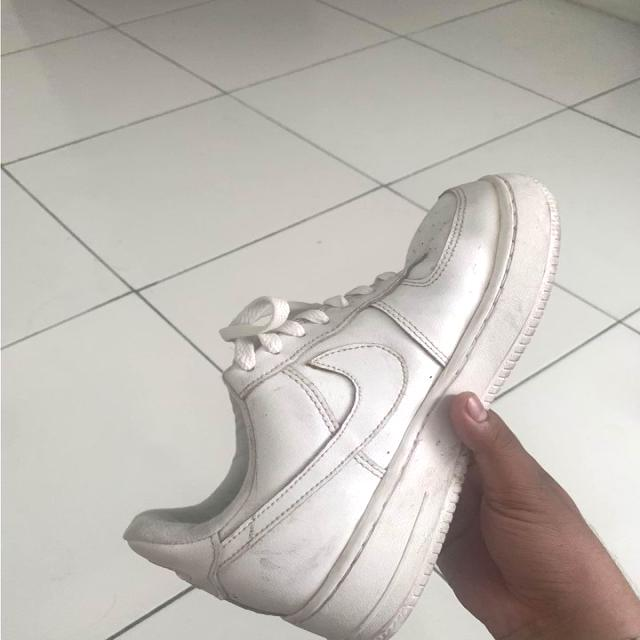nike_fake_airforce: (126, 170, 612, 640)
